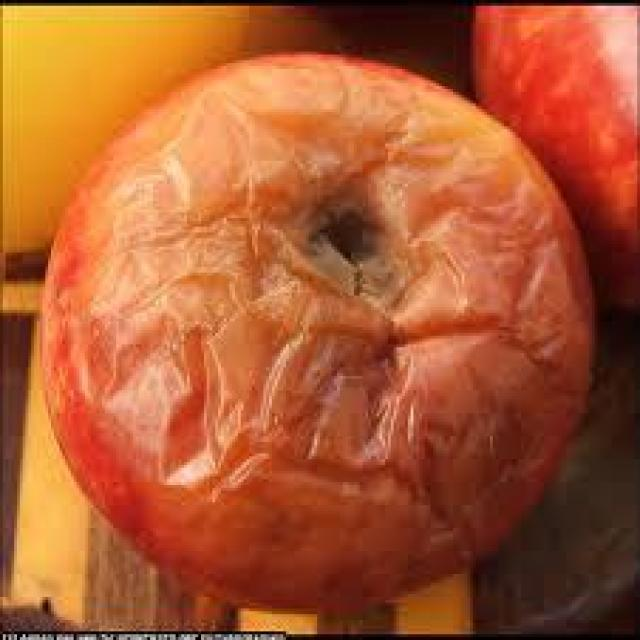maca: (37, 49, 597, 614)
